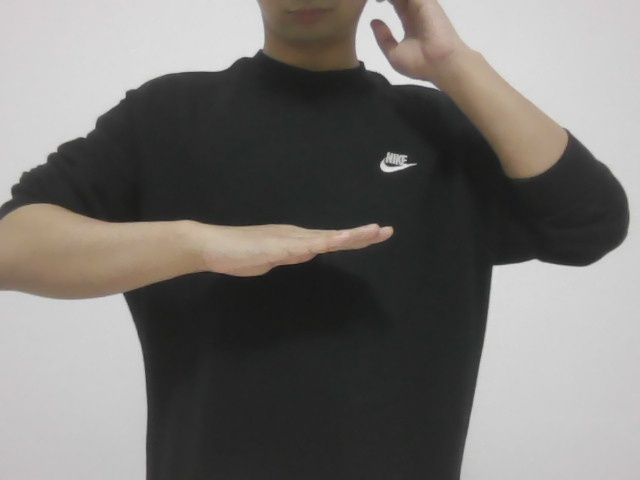safe: (171, 195, 399, 291)
